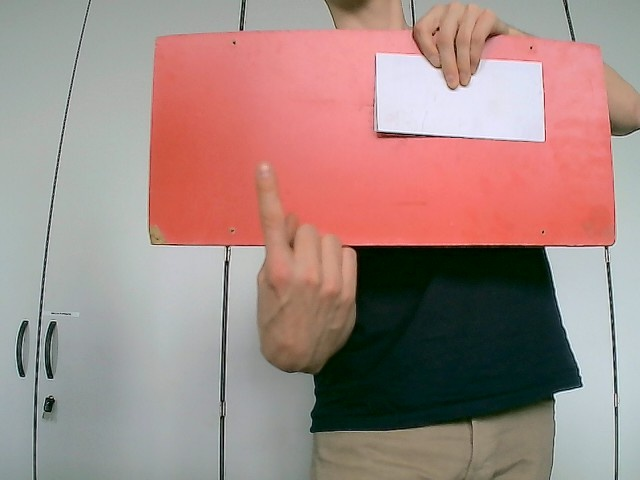no_gesture: (411, 0, 515, 89)
up: (252, 160, 359, 375)
